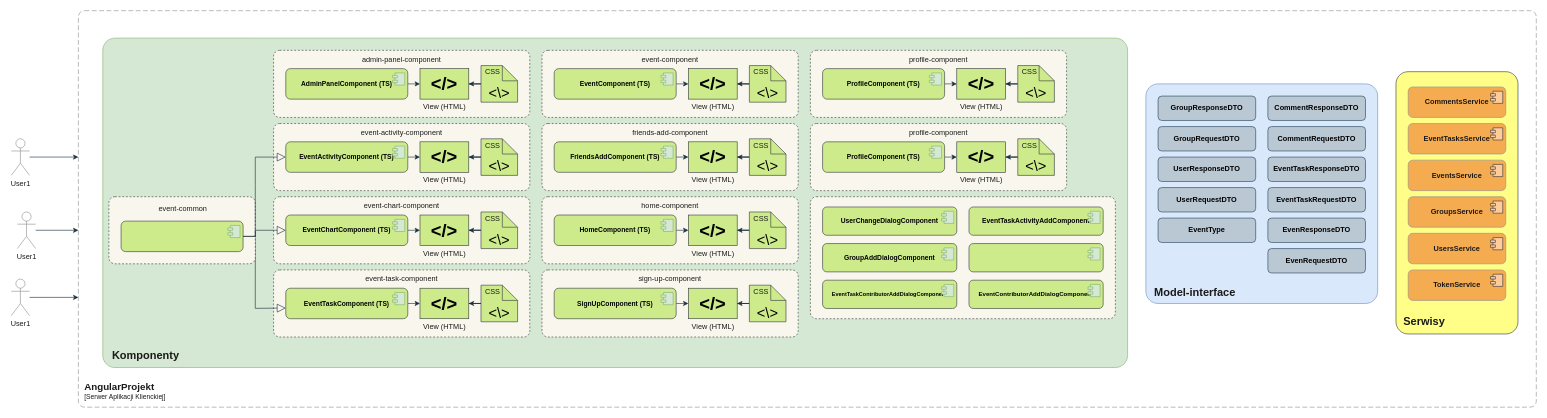
This 1547x418 diagram has some shape labels left out. Here are the shapes that lost their labels. From the top down, the box of each, then its label:
(120, 221, 243, 252): EventCommon (TS)
(968, 243, 1103, 272): EventTaskAddComponent
